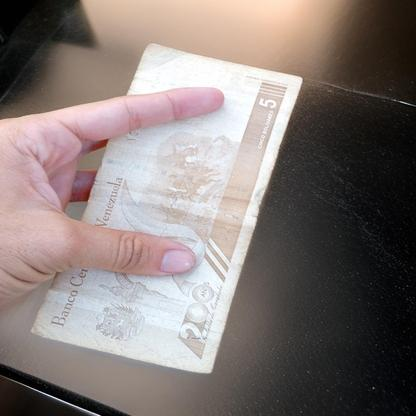vef_back: (30, 41, 302, 374)
